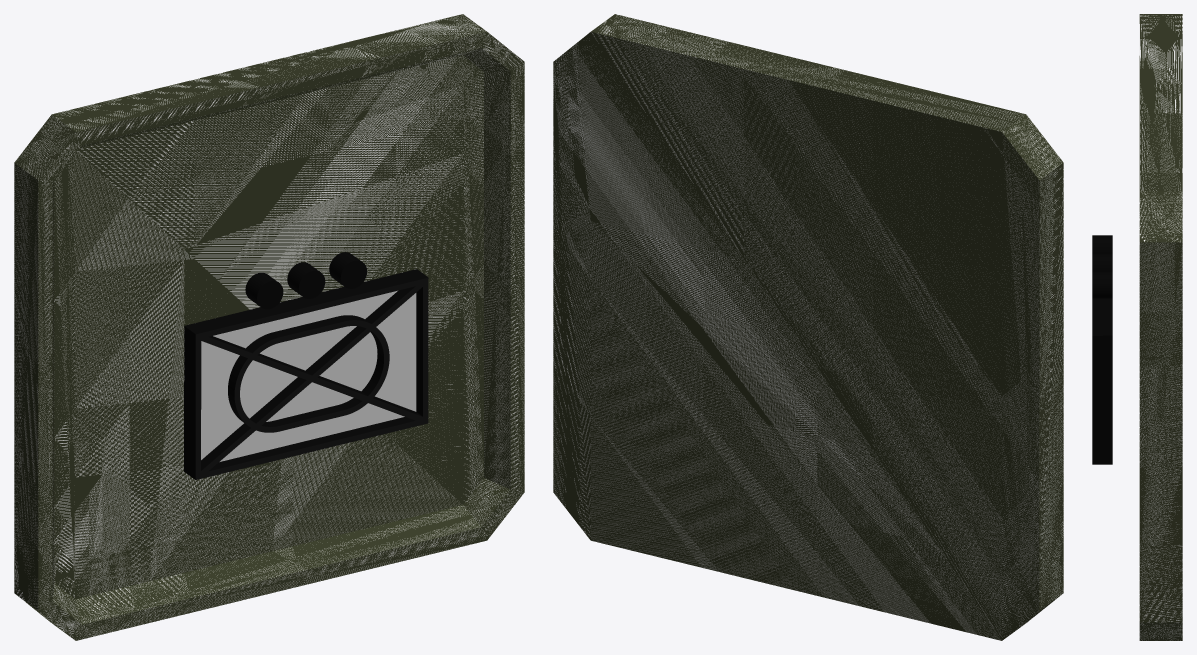
Rendered from ORBAT_-_3.obj.
3 renders of one model, left to right at view 1: azimuth 30°, elevation 25°; view 2: azimuth 150°, elevation 25°; view 3: azimuth 270°, elevation 25°, orthographic. The views are drawn at different scales.
Visible parts, largest first — view 1: Button.001_ID13, Button_ID3, SM_ORBAT_-_3_path1763-2.106; view 2: Button_ID3; view 3: Button_ID3, SM_ORBAT_-_3_path1763-2.106.
Part boxes in pixels (left/top/right/bottom): Button.001_ID13: left=52, top=48, right=510, bottom=624; Button_ID3: left=14, top=14, right=524, bottom=640; SM_ORBAT_-_3_path1763-2.106: left=184, top=252, right=428, bottom=479; Button_ID3: left=553, top=14, right=1063, bottom=640; Button_ID3: left=1139, top=14, right=1182, bottom=640; SM_ORBAT_-_3_path1763-2.106: left=1092, top=235, right=1112, bottom=464.
Bounding box in the file's own units: 1 × 1 × 0.1819.
